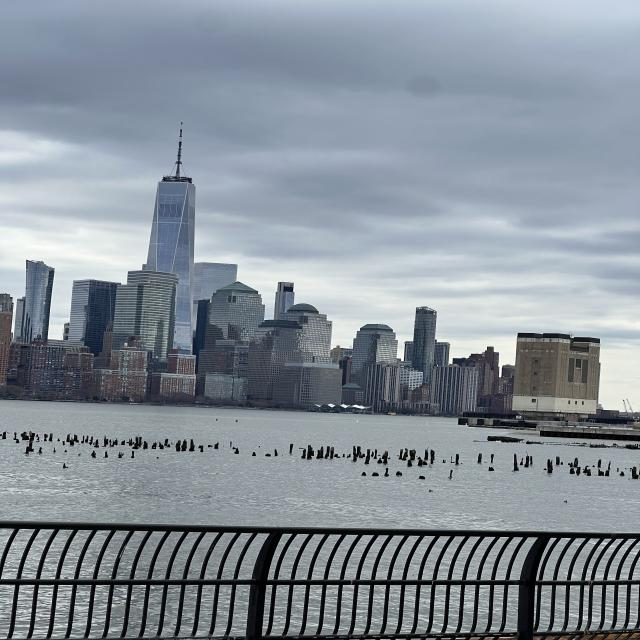WTC: (145, 123, 196, 280)
